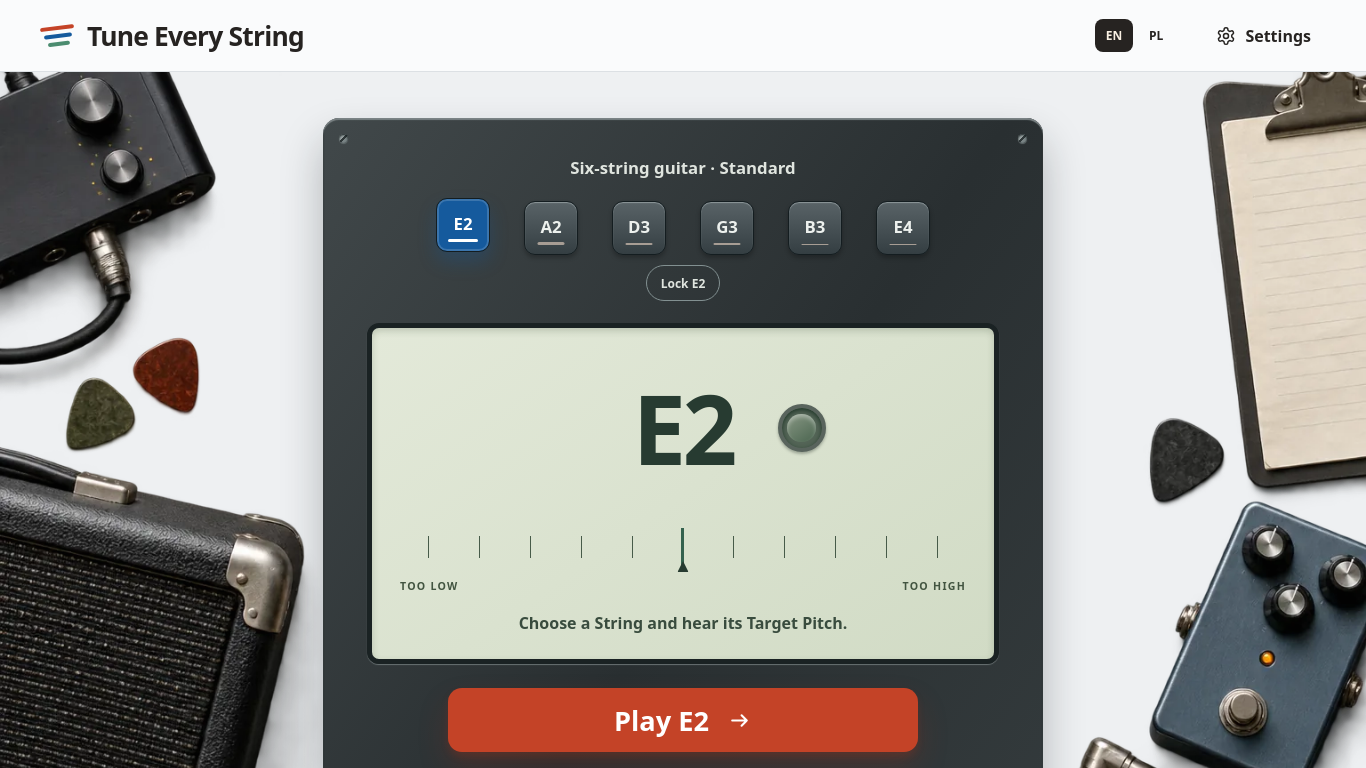
it: application routes › changes the Guitar Tuning Preset and controls String Lock
The image size is (1366, 768).
Expected: the button "E2" is shown, [436, 198, 490, 252]
Click the button "Settings": (1264, 36) [1202, 14, 1325, 58]
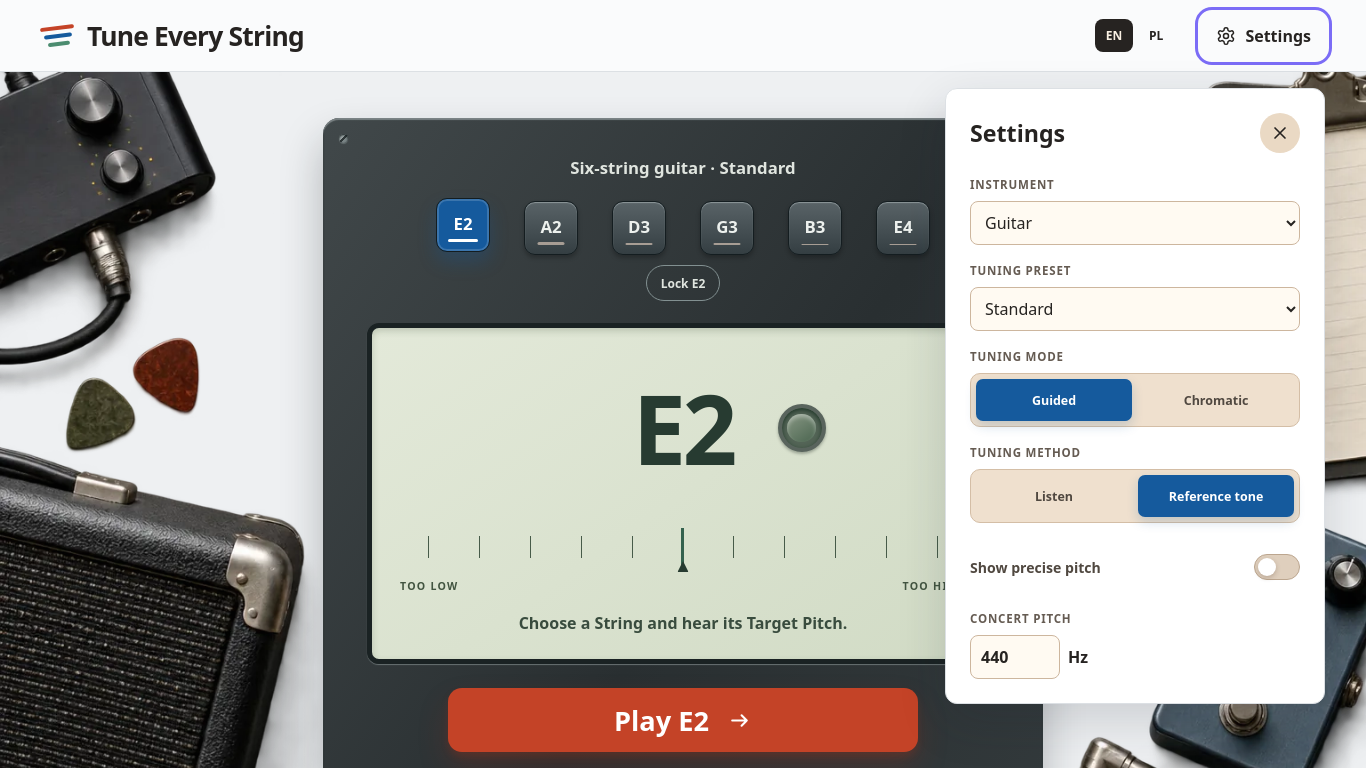
Select "Drop D" in the dropdown labelled "Tuning preset": (1135, 309) [970, 287, 1300, 331]
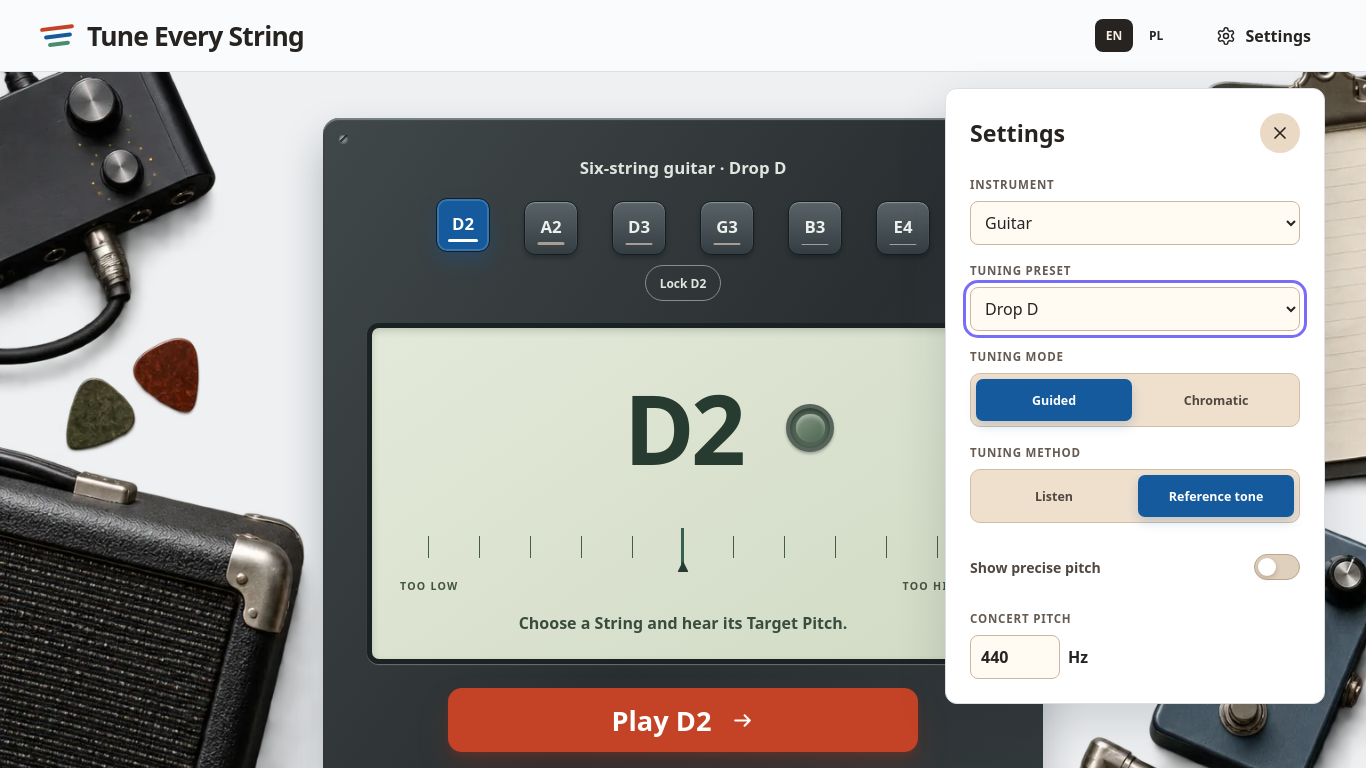
Expected: the button "D2" is shown, [436, 198, 490, 252]
Expected: the text "Six-string guitar · Drop D" is shown, [580, 156, 786, 179]
Click the button "Lock D2": (683, 283) [645, 265, 721, 301]
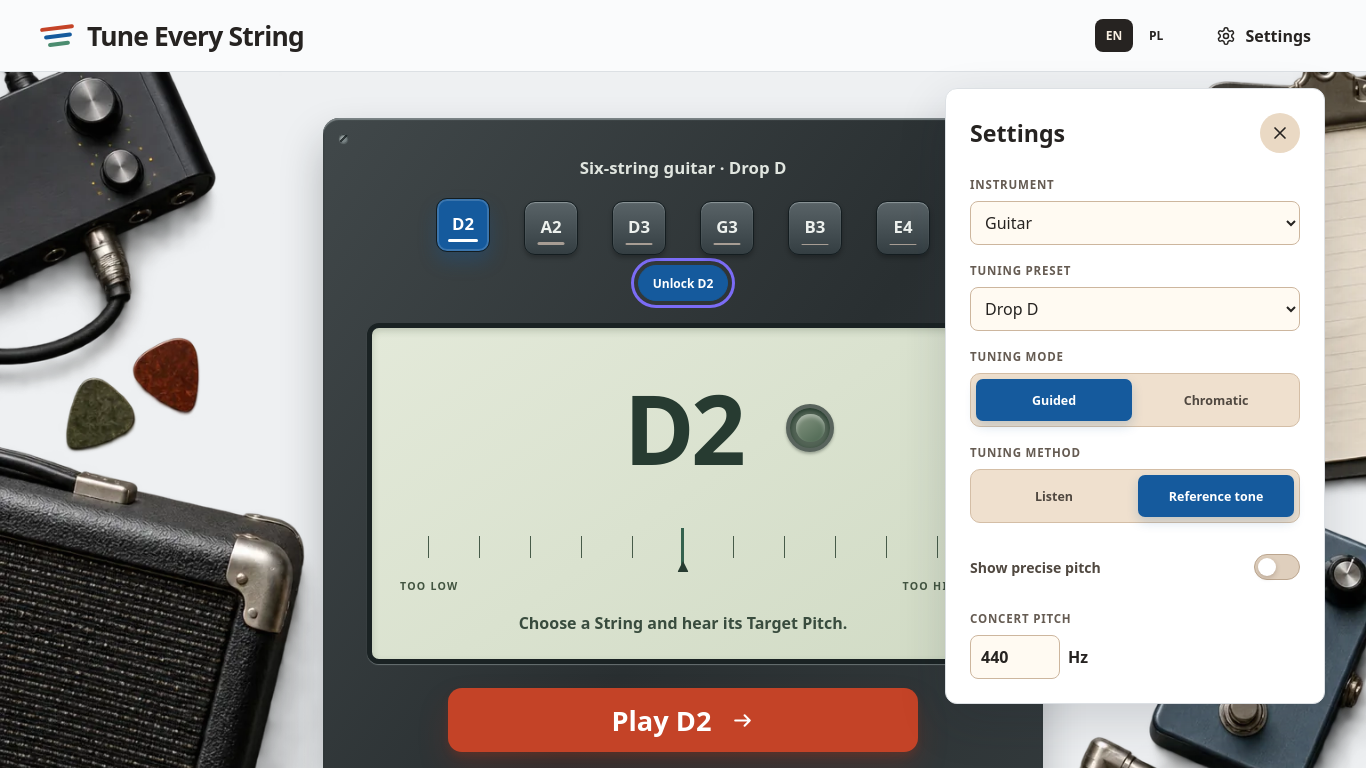
Expected: the button "Unlock D2" is shown, [638, 265, 728, 301]
